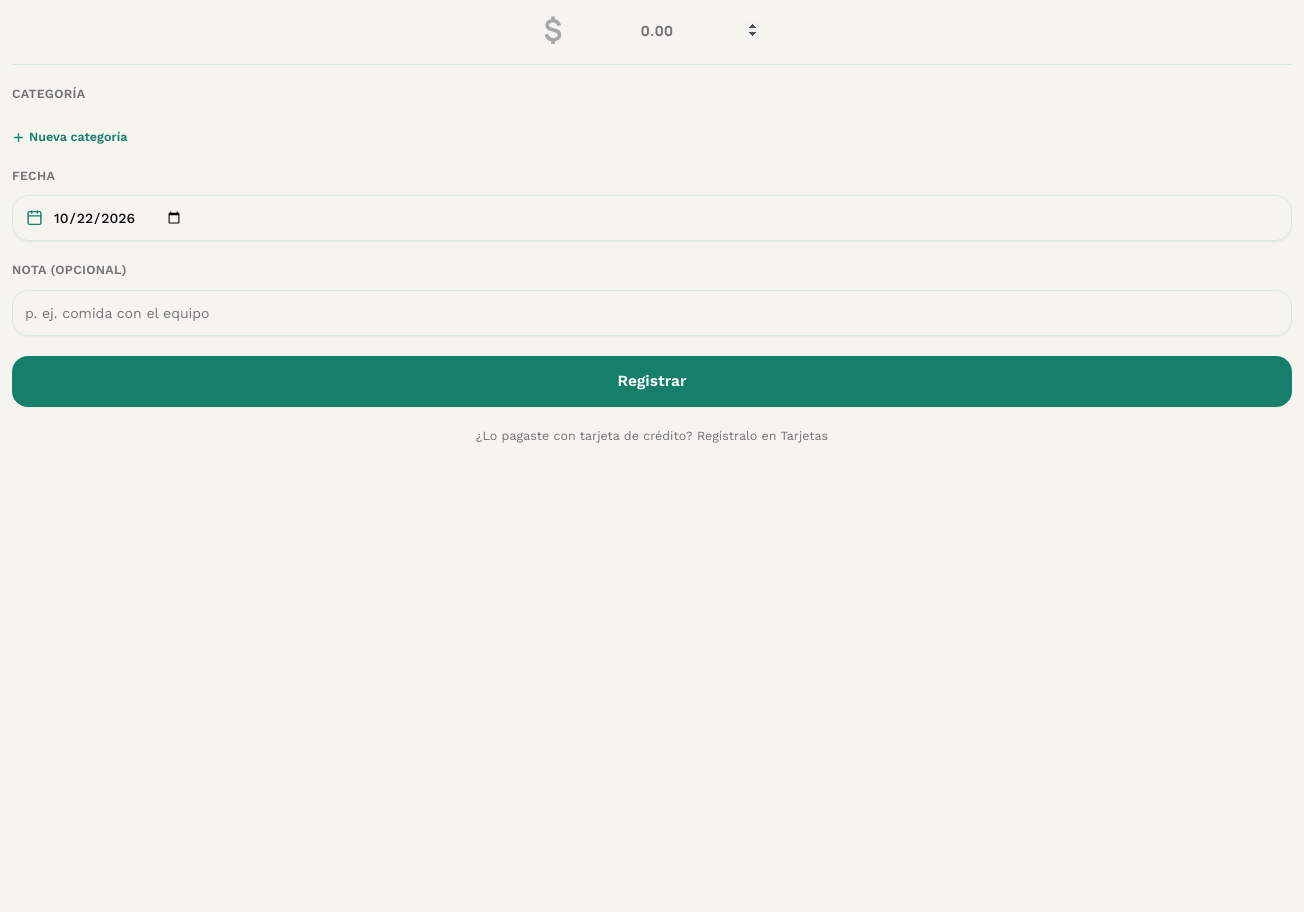
Test: FormularioGasto — un gasto mayor al disponible pide confirmación › avisa cuánto quedaría la quincena en negativo y NO registra todavía
Type "6000" into the number field named "¿Cuánto gastaste?".
click(664, 30); type("6000")  # box top-left (568, 20), bottom-right (760, 40)
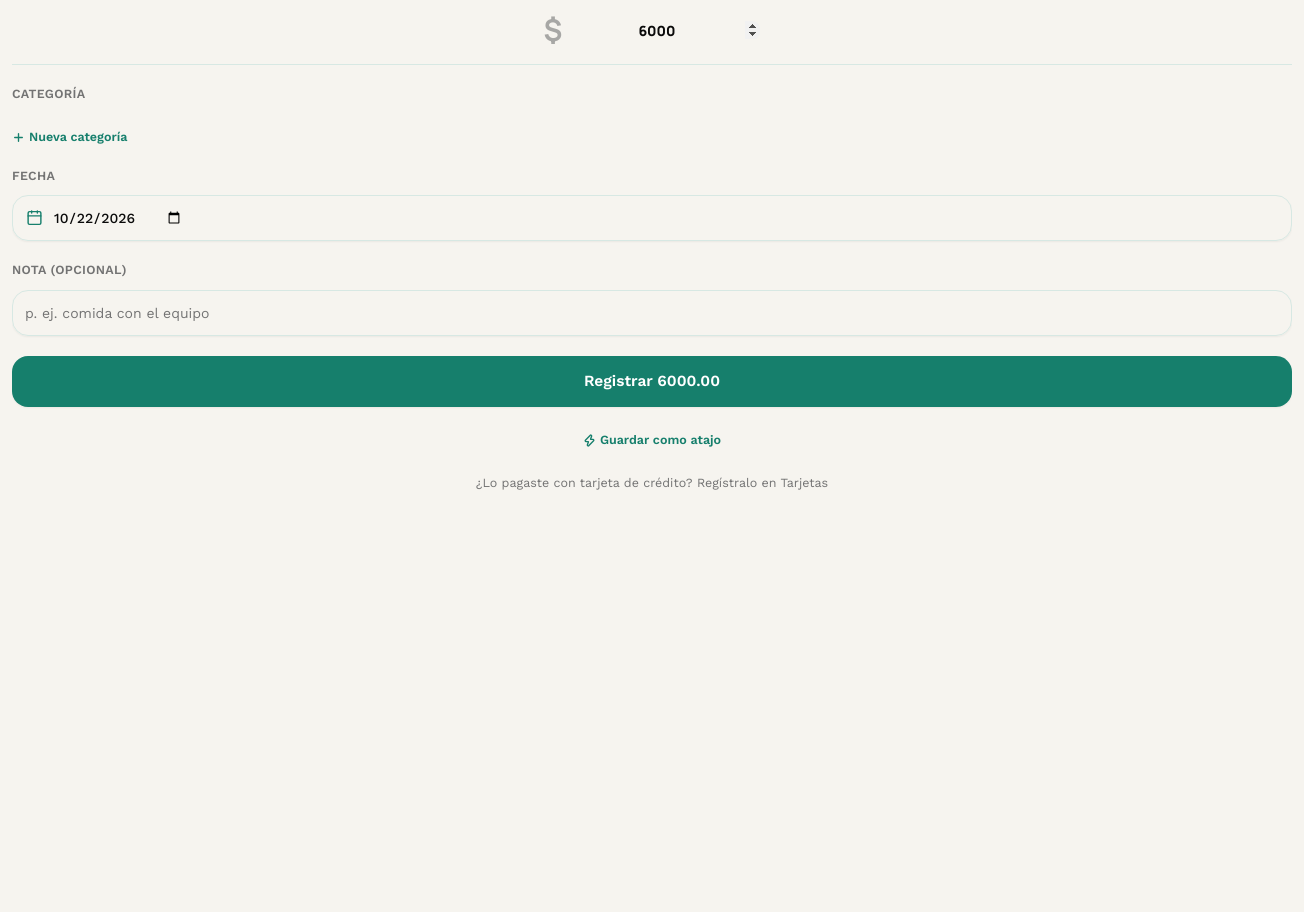
Click the button "Registrar 6000.00".
click(652, 382)  # box top-left (12, 356), bottom-right (1292, 407)
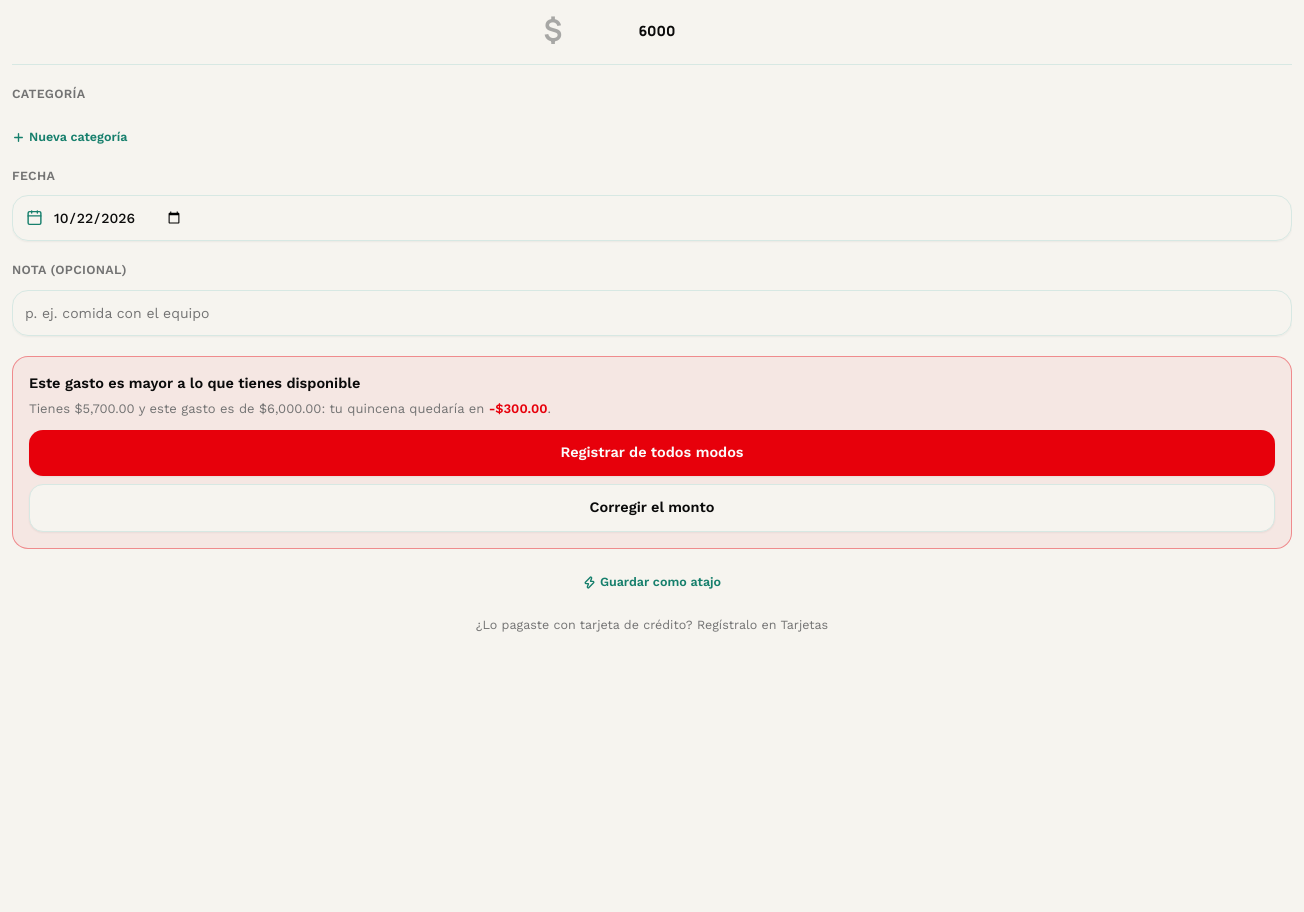
Expected: the message shows "Este gasto es mayor a lo que tienes disponible", top-left (29, 375), bottom-right (360, 392)
Expected: the message shows "Tienes $5,700.00 y este gasto es de $6,000.00", top-left (12, 356), bottom-right (1292, 549)
Expected: the message shows "-$300.00", top-left (12, 356), bottom-right (1292, 549)
